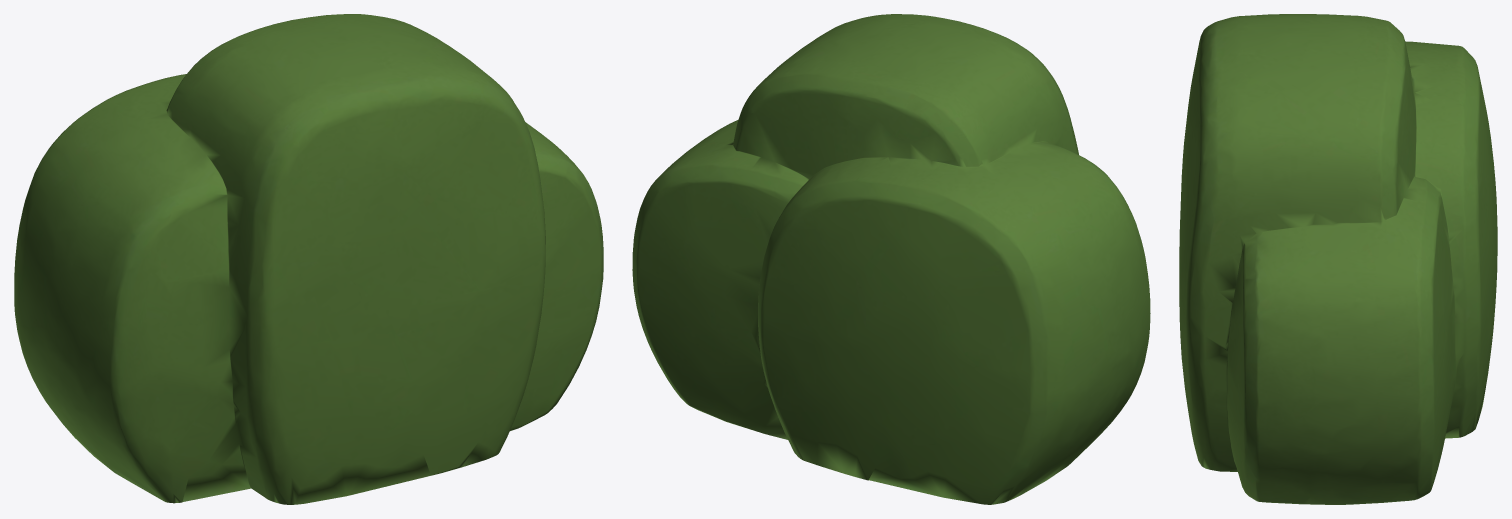
Rendered from bush-512.glb.
The picture shows the model from 3 angles, left to right: view 1: azimuth 30°, elevation 25°; view 2: azimuth 150°, elevation 25°; view 3: azimuth 270°, elevation 25°; orthographic projection. The views are drawn at different scales.
Size of the model in its own units: 1.9 by 1.43 by 1.09.
Materials: 1 (1 with a texture image).
